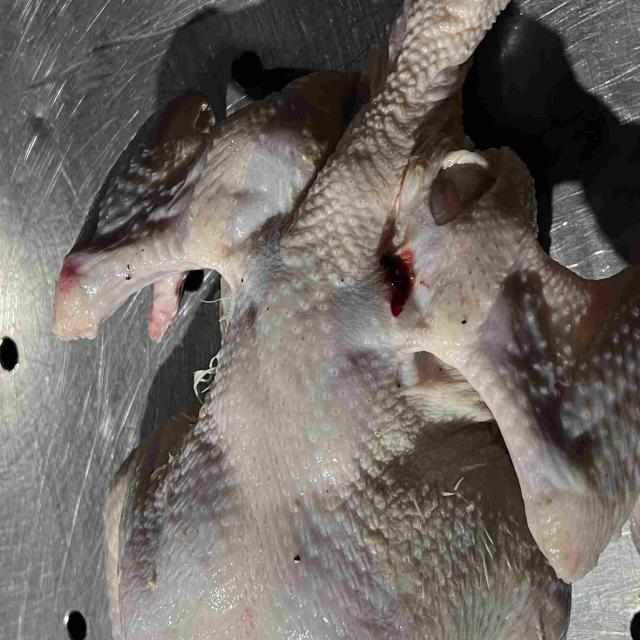back: (172, 277, 426, 640)
leg: (434, 518, 567, 640), (101, 423, 175, 640)
neck: (291, 0, 510, 277)
wing: (50, 72, 342, 342), (426, 247, 640, 573)
